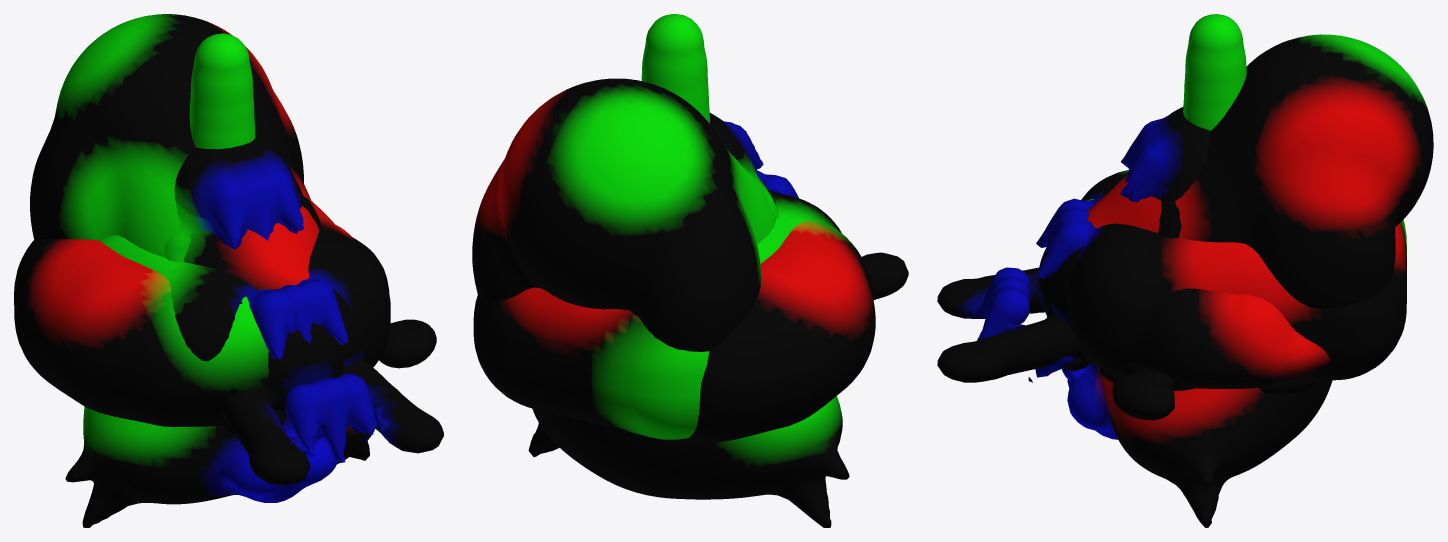
The model's file is cat-calico.glb.
The picture shows the model from 3 angles, left to right: view 1: azimuth 30°, elevation 25°; view 2: azimuth 150°, elevation 25°; view 3: azimuth 270°, elevation 25°; orthographic projection. The views are drawn at different scales.
Parts seen in each view (by area): view 1: body_crouch, body_curl, body_loaf, head, body_sit, tail, body_float; view 2: body_crouch, body_loaf, body_curl, head, tail, body_sit; view 3: body_crouch, body_loaf, body_curl, head, tail, body_sit, body_float.
Boxes of the visible parts, <box> form: body_crouch: <box>30,14,443,485</box>; body_curl: <box>14,225,436,441</box>; body_loaf: <box>99,201,390,437</box>; head: <box>65,406,375,527</box>; body_sit: <box>174,134,304,426</box>; tail: <box>189,33,255,149</box>; body_float: <box>164,179,321,262</box>; body_crouch: <box>472,78,908,351</box>; body_loaf: <box>473,170,841,439</box>; body_curl: <box>687,220,875,442</box>; head: <box>528,396,849,527</box>; tail: <box>641,14,709,123</box>; body_sit: <box>709,113,763,172</box>; body_crouch: <box>937,34,1433,394</box>; body_loaf: <box>1036,170,1406,380</box>; body_curl: <box>1028,199,1329,420</box>; head: <box>1062,363,1332,527</box>; tail: <box>1183,14,1246,130</box>; body_sit: <box>1099,107,1210,382</box>; body_float: <box>1120,165,1194,390</box>.
Bounding box in the file's own units: 0.8862 × 1.09 × 1.1.
